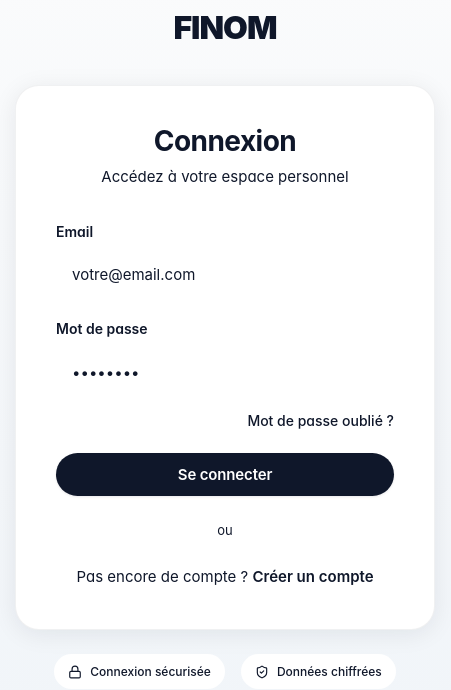
Scenario: Login Component › Form Validation › shows error for password too short
This screenshot has width=451, height=690.
Type "test@example.com" into the field at (225, 275), box [56,251,394,298]
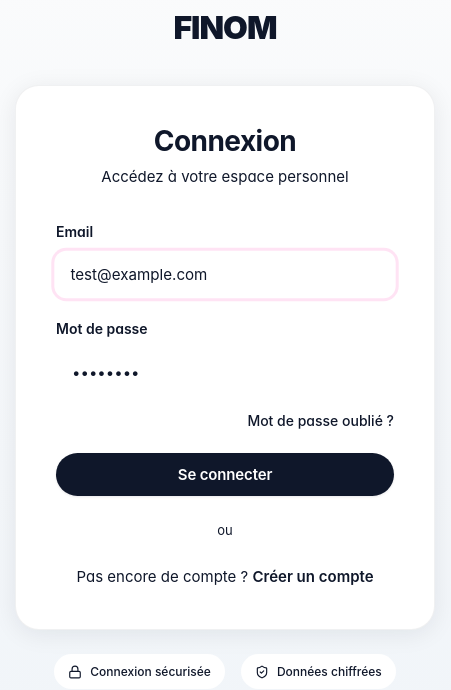
Type "12345" into the password field with placeholder "••••••••" at (225, 372), box [56,349,394,396]
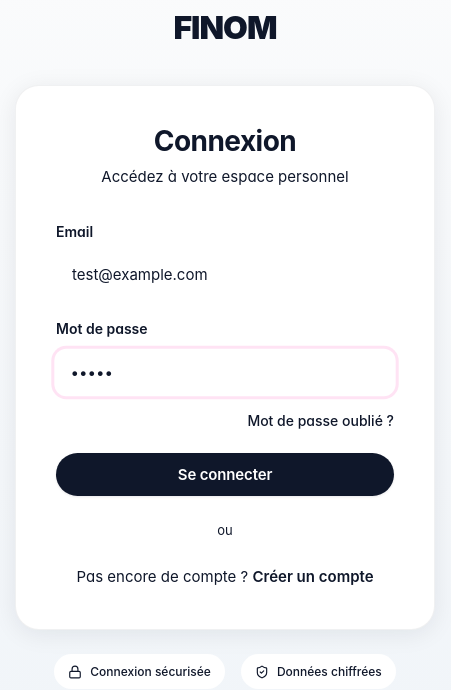
Click the button "Se connecter" at (225, 475), box [56,453,394,496]
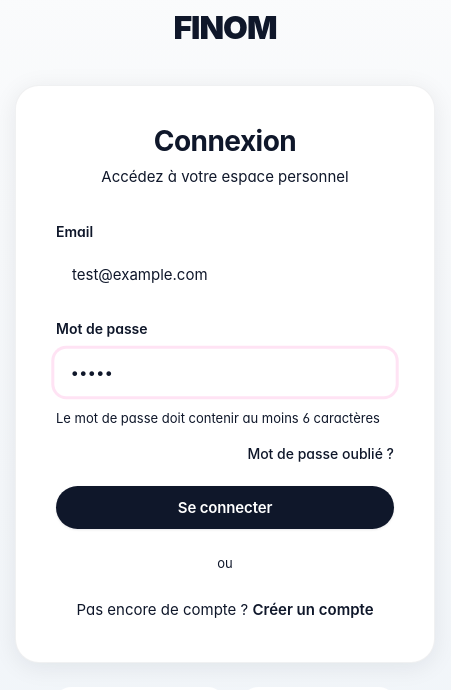
expect the text "Le mot de passe doit contenir au moins 6 caractères" is shown: met, box [56,408,394,429]
